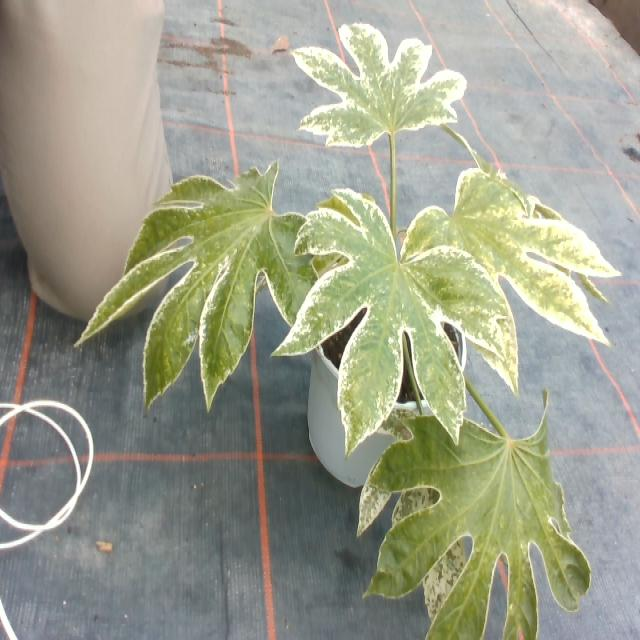Fatsia-japonica: (271, 172, 530, 459), (82, 138, 317, 422), (373, 394, 604, 640), (389, 143, 617, 359), (269, 0, 477, 163)
